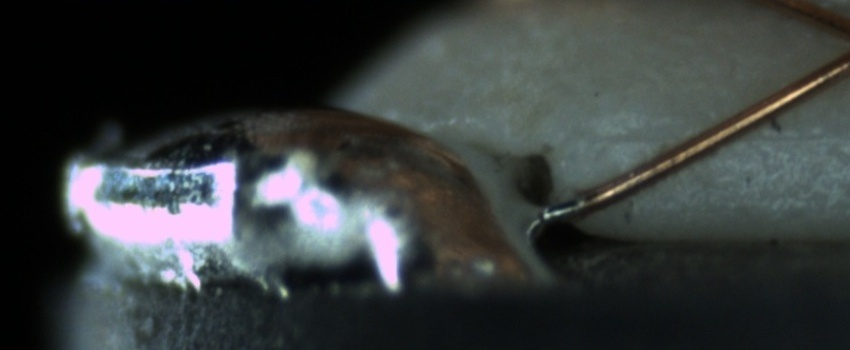DL: (616, 111, 850, 164)
TS: (541, 193, 583, 224)
